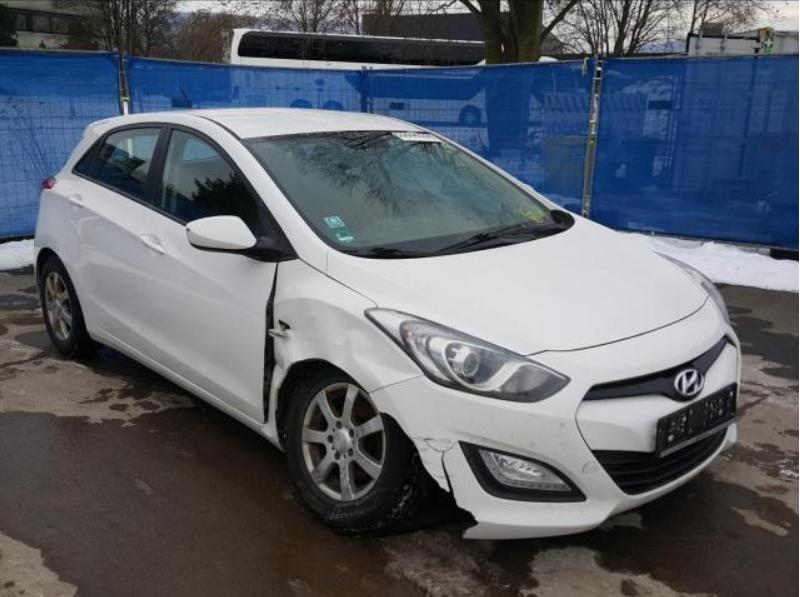Back-door: (64, 123, 169, 352)
Back-wheel: (38, 256, 89, 359)
Back-window: (71, 126, 165, 202)
Fender: (267, 259, 428, 452)
Front-bumper: (366, 298, 741, 541)
Front-door: (136, 126, 291, 424)
Front-wheel: (280, 364, 434, 545)
Front-window: (152, 124, 288, 265)
Headlight: (371, 311, 564, 405), (661, 255, 728, 319)
Hood: (326, 214, 709, 355)
License-plate: (650, 377, 744, 456)
Mirror: (185, 213, 259, 254)
Quarter-panel: (34, 168, 71, 285)
Rocker-panel: (88, 321, 267, 442)
Roof: (96, 108, 423, 141)
Tail-light: (40, 177, 55, 192)
Windshield: (245, 130, 573, 259)
